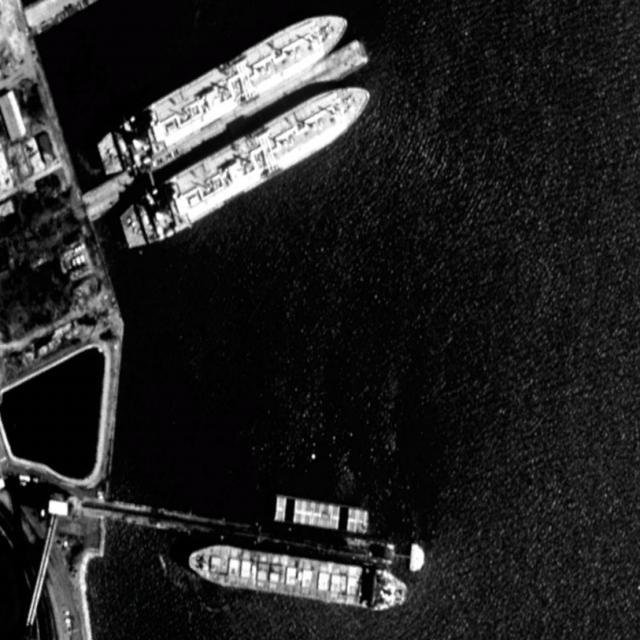Cargo: (187, 539, 409, 617)
Other Ship: (116, 67, 378, 259), (94, 1, 353, 182)
